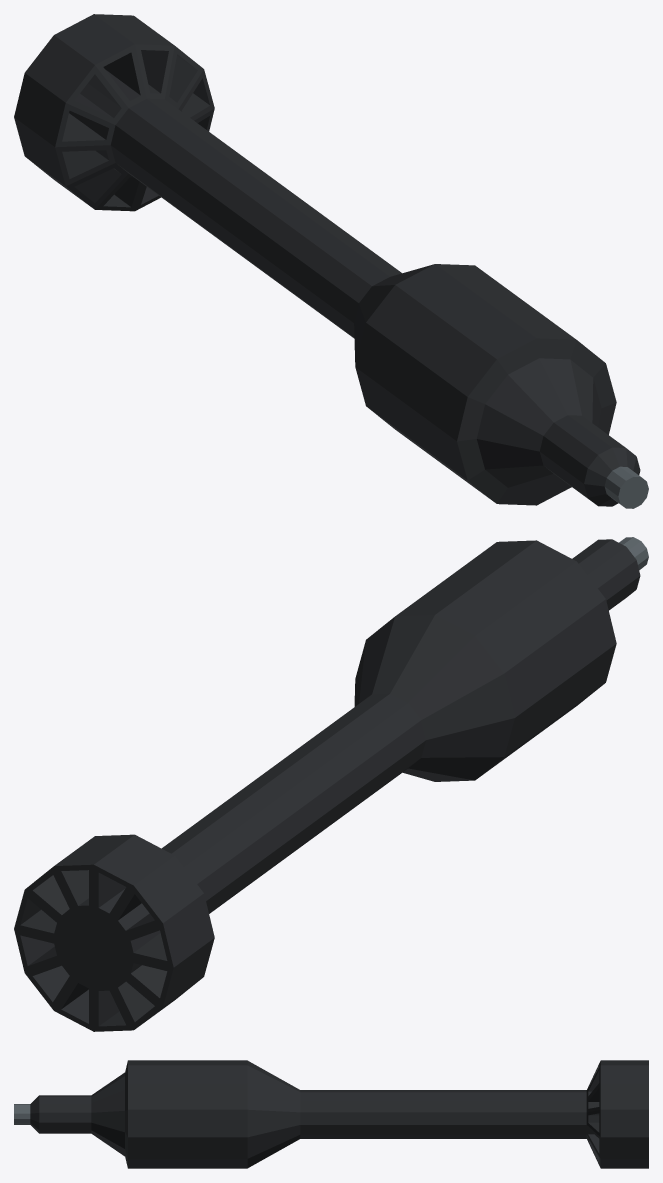
Rendered from Rocket.fbx.
The picture shows the model from 3 angles, top to bottom: view 1: azimuth 30°, elevation 25°; view 2: azimuth 150°, elevation 25°; view 3: azimuth 270°, elevation 25°; orthographic projection. The views are drawn at different scales.
Parts seen in each view (by area): view 1: Rocket; view 2: Rocket; view 3: Rocket.
Boxes of the visible parts, x1,y1,x2,y2 form: Rocket: (14,14,648,508); Rocket: (14,537,648,1031); Rocket: (14,1060,648,1168).
Size of the model in its own units: 0.1005 by 0.1005 by 0.5885.
